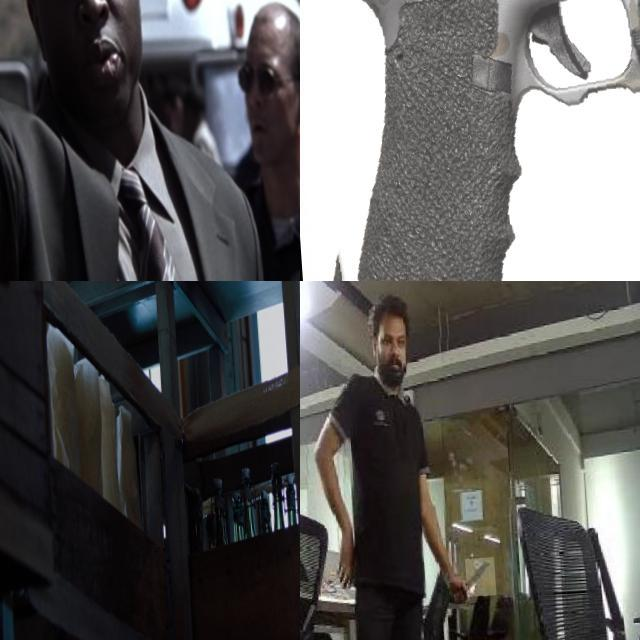-: (458, 562, 489, 600)
gun-knife-thesis - v11 Yolov5 augmented: (300, 0, 640, 281), (0, 0, 53, 124)
